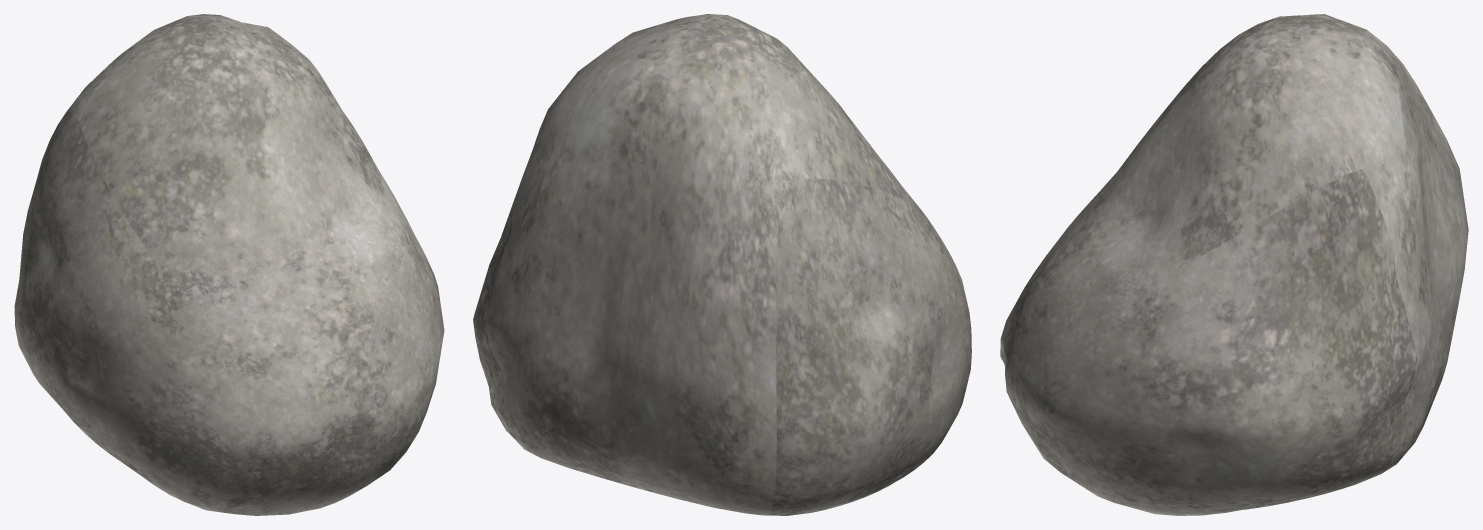
The model's file is inseki_1.fbx.
3 renders of one model, left to right at view 1: azimuth 30°, elevation 25°; view 2: azimuth 150°, elevation 25°; view 3: azimuth 270°, elevation 25°, orthographic. The views are drawn at different scales.
Visible parts, largest first — view 1: pCube1; view 2: pCube1; view 3: pCube1.
Boxes of the visible parts, x1,y1,x2,y2 form: pCube1: [14, 14, 444, 515]; pCube1: [473, 14, 971, 515]; pCube1: [1000, 14, 1468, 515].
Bounding box in the file's own units: 3.93 × 4.57 × 4.18.
1 material, 1 textured.
